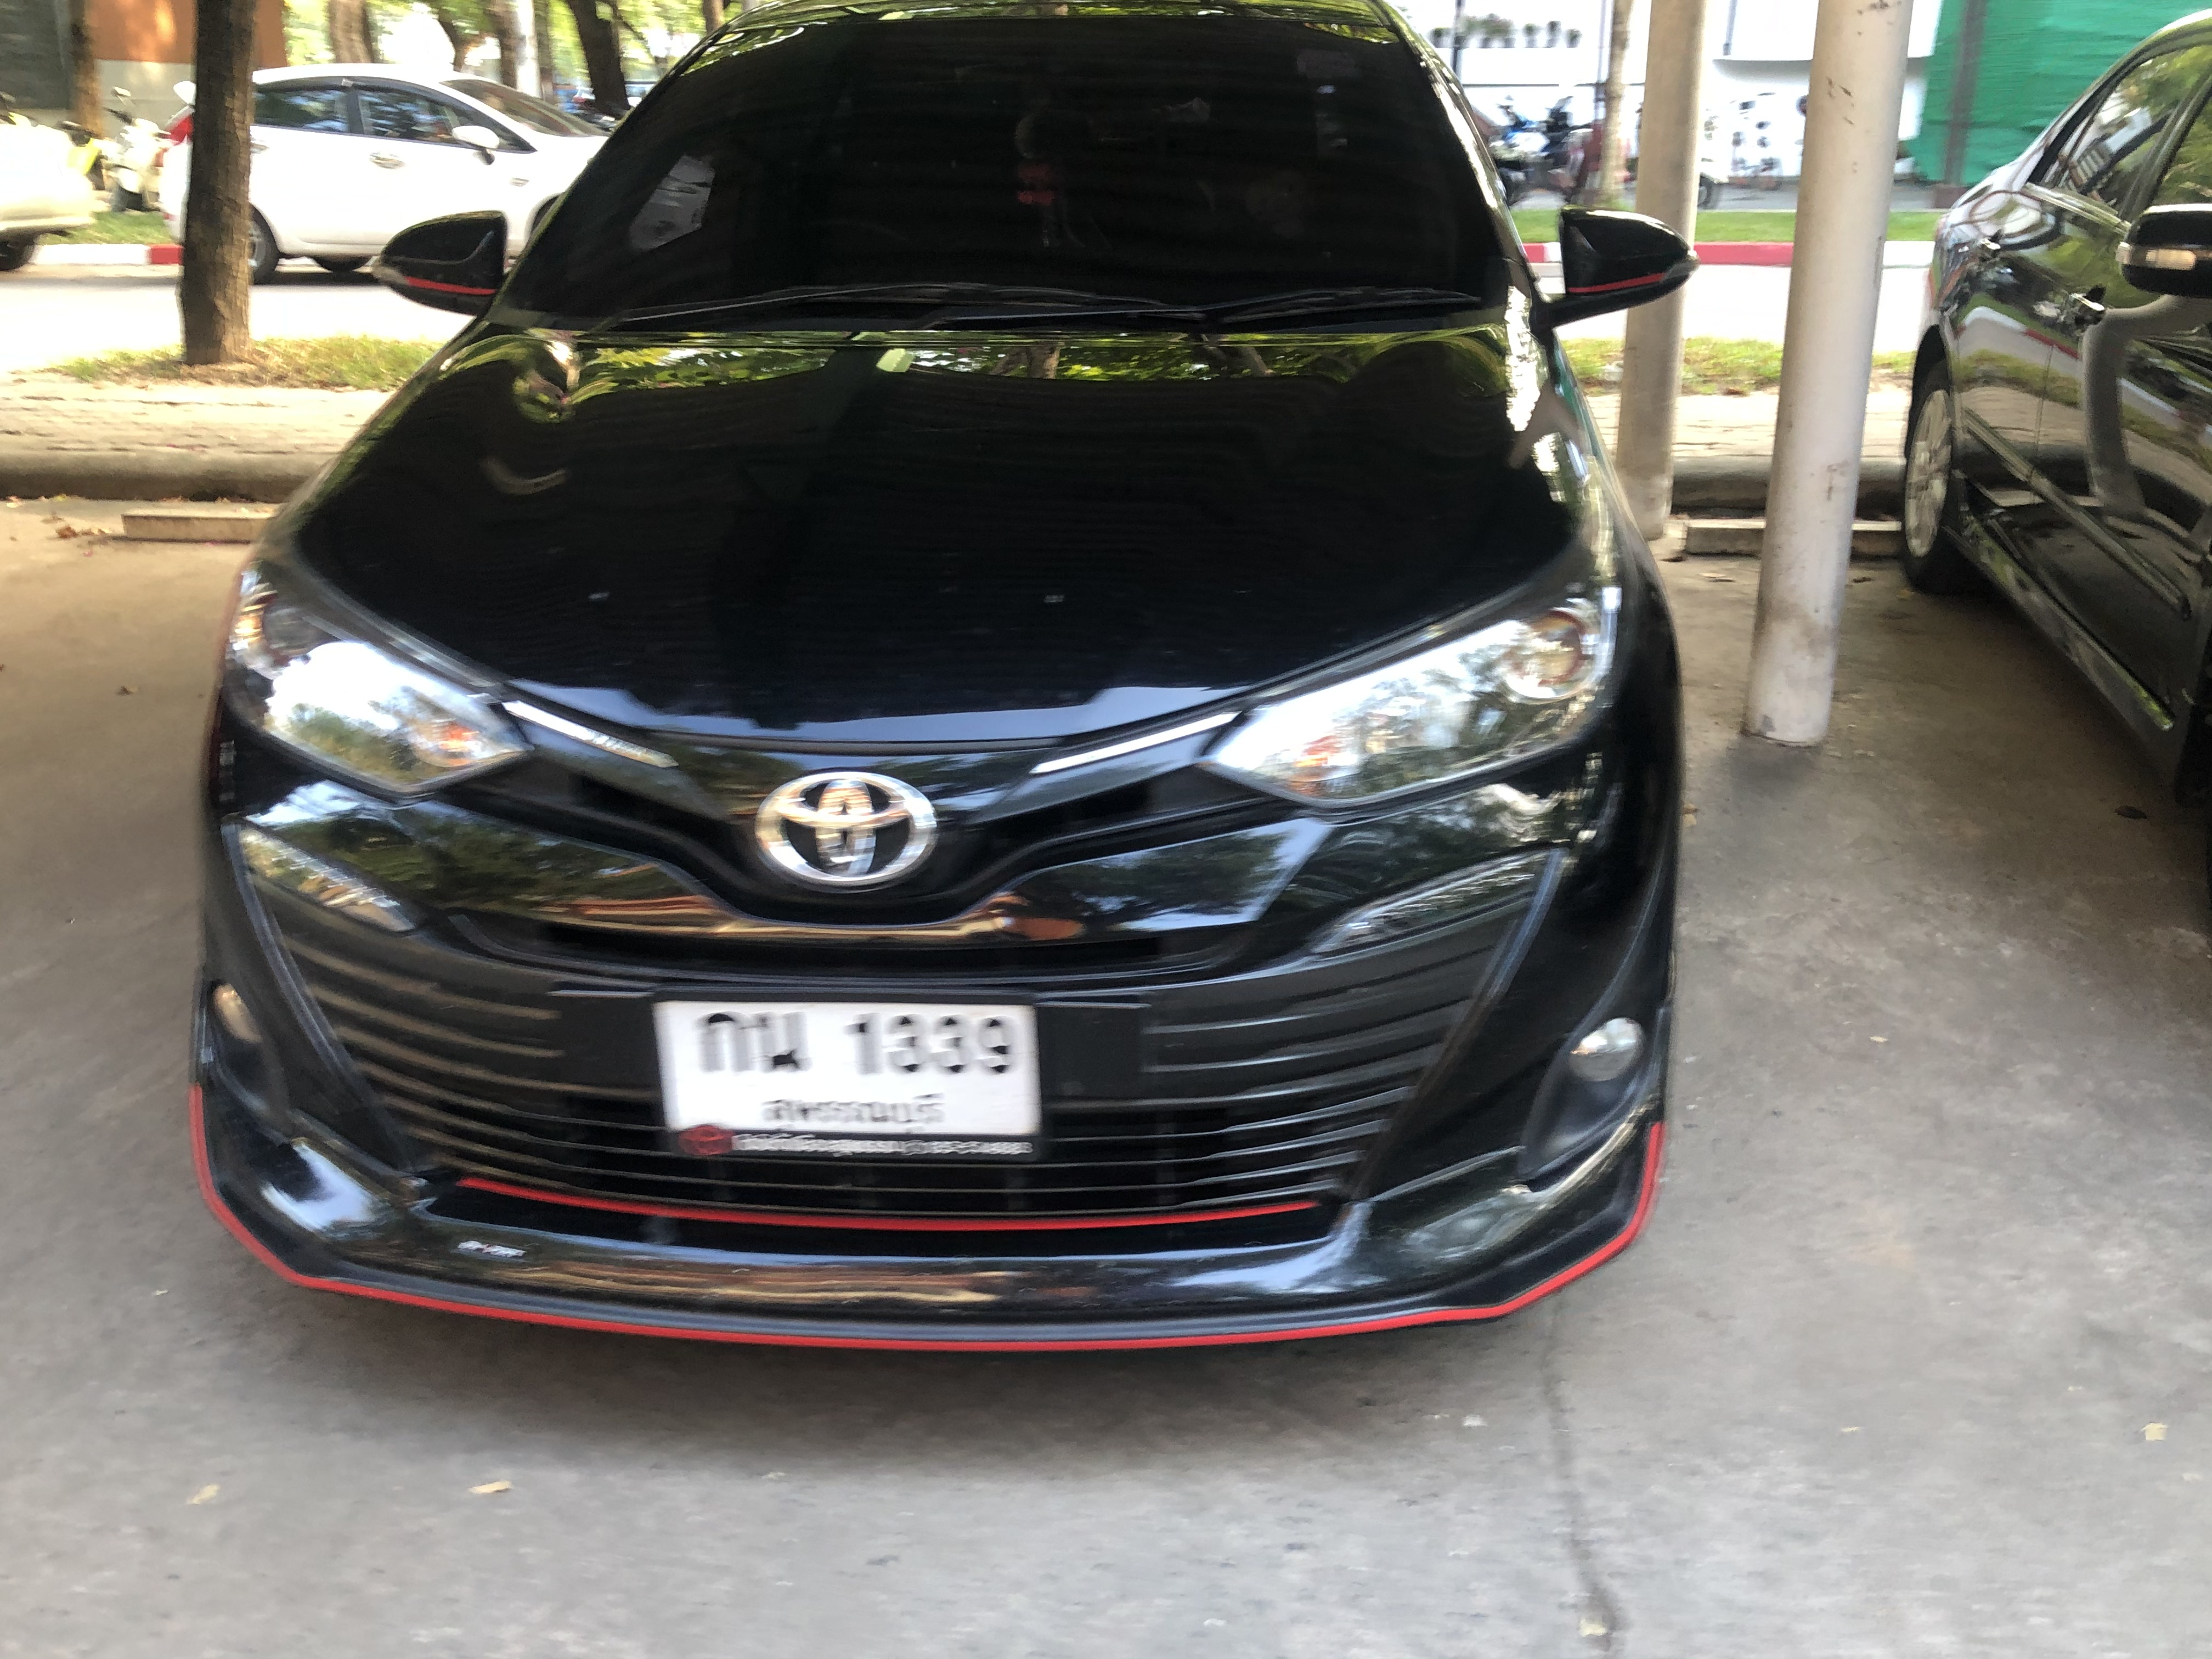in: (658, 1004, 1042, 1134)
out: (639, 986, 1052, 1169)
